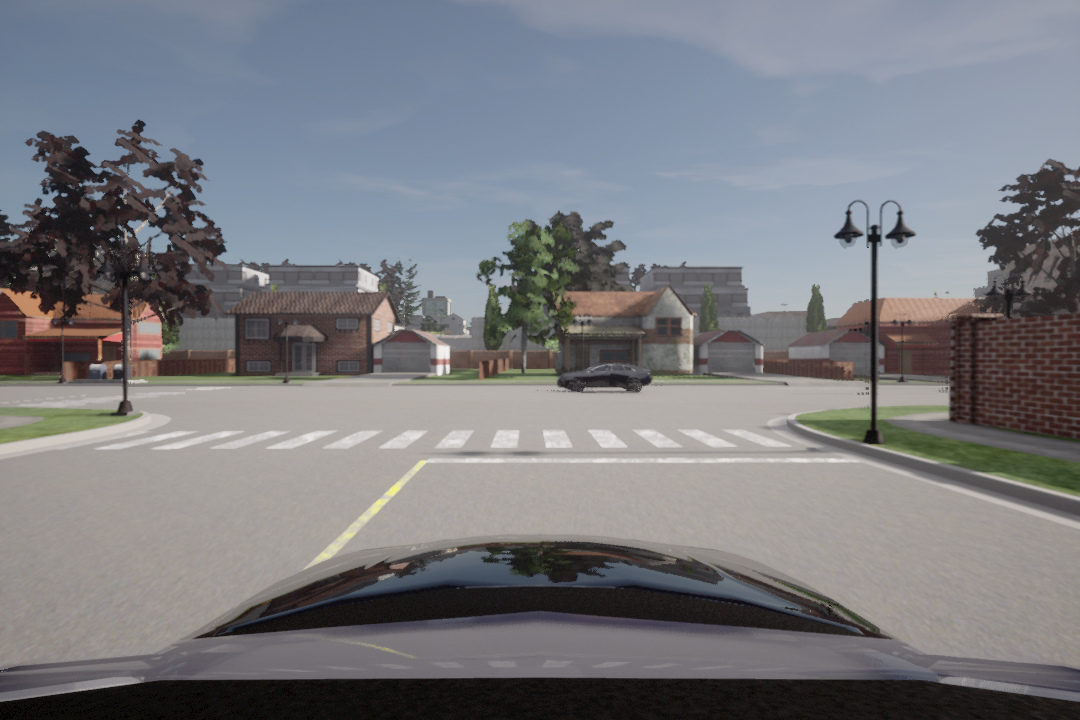walkside: (91, 424, 795, 455)
